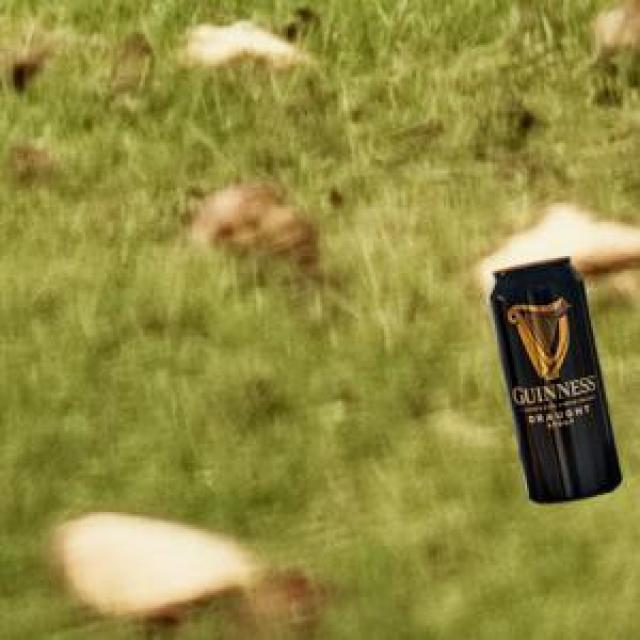Can: (485, 255, 618, 500)
